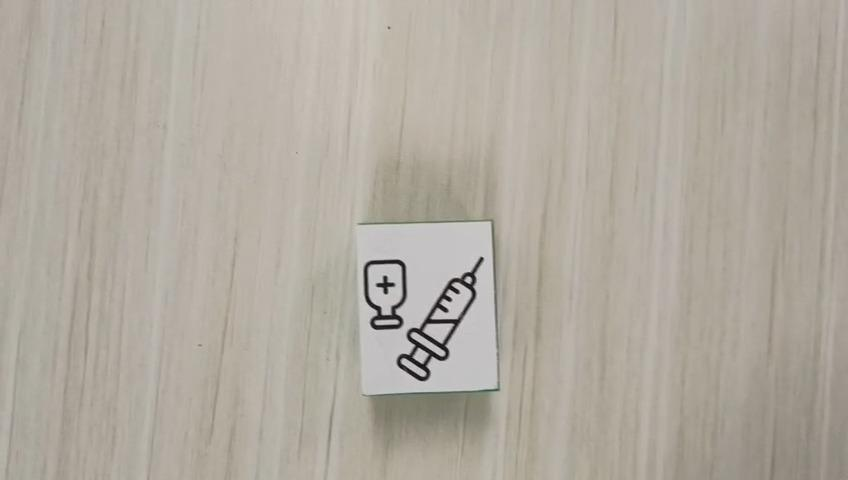antiseptic cream: (355, 219, 500, 396)
